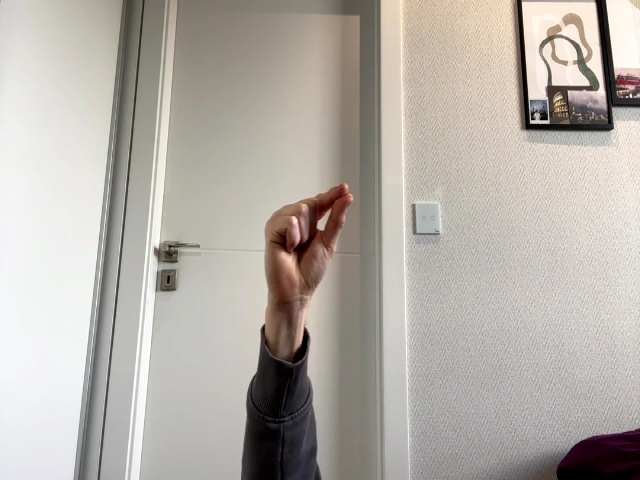P: (265, 183, 353, 304)
